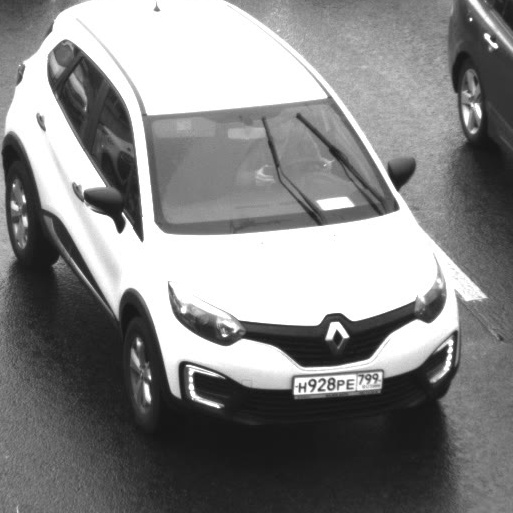plate: (280, 358, 390, 404)
